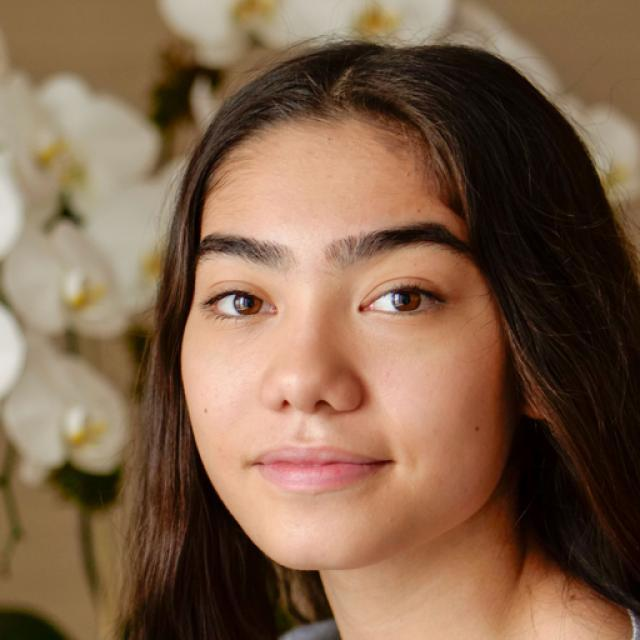content: (182, 112, 516, 568)
